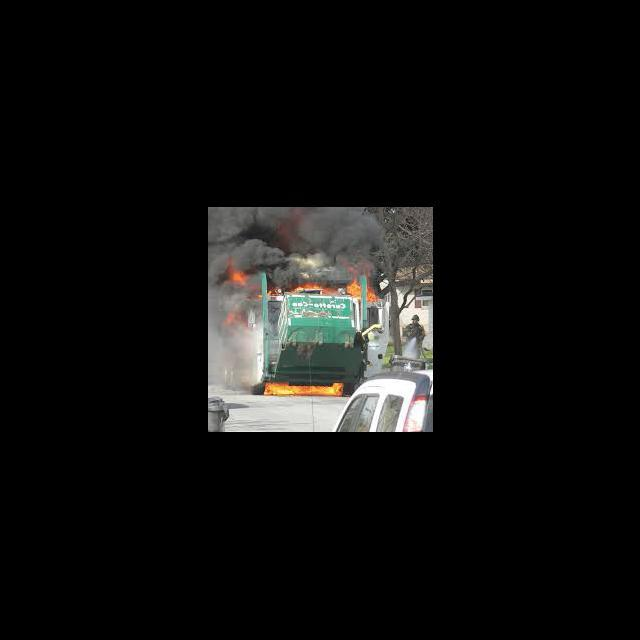Fire: (260, 380, 344, 398), (344, 272, 388, 306), (222, 257, 250, 289), (291, 277, 338, 295), (226, 310, 252, 333)
Smoke: (210, 208, 375, 256), (255, 256, 366, 274), (220, 336, 257, 386), (208, 256, 222, 388)
